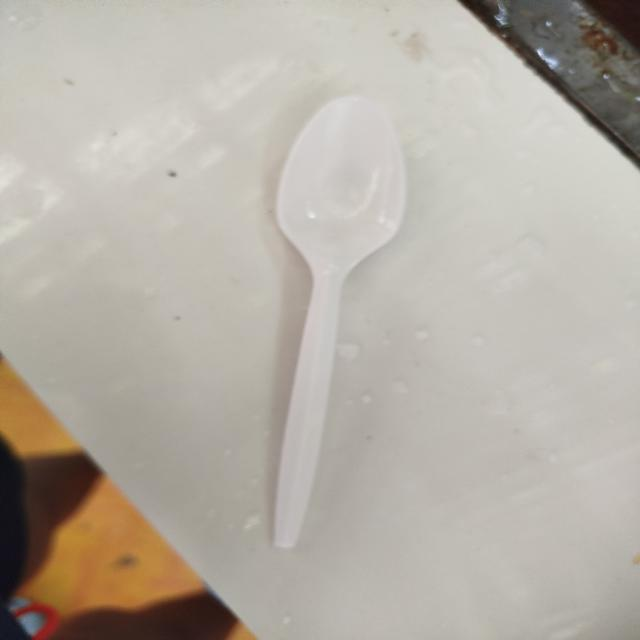plastic: (235, 80, 434, 560)
